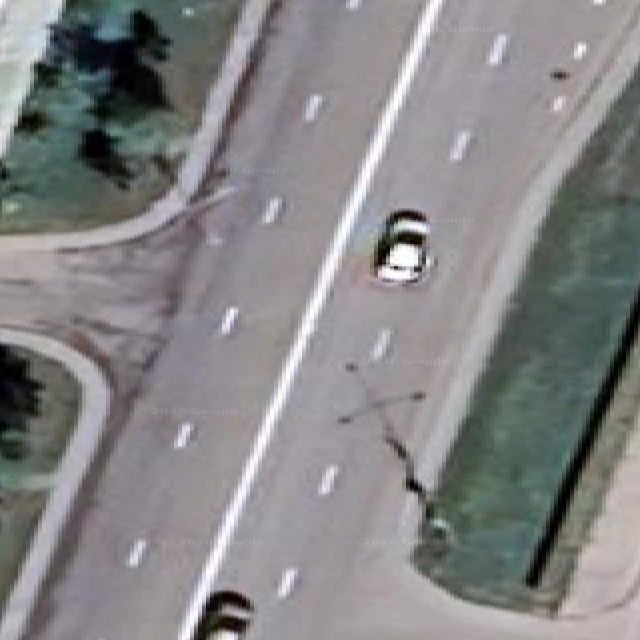car: (373, 210, 435, 284), (194, 591, 252, 639)
